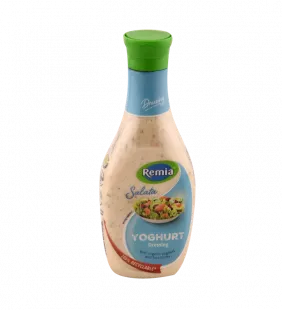Promotion: (91, 20, 204, 284)
